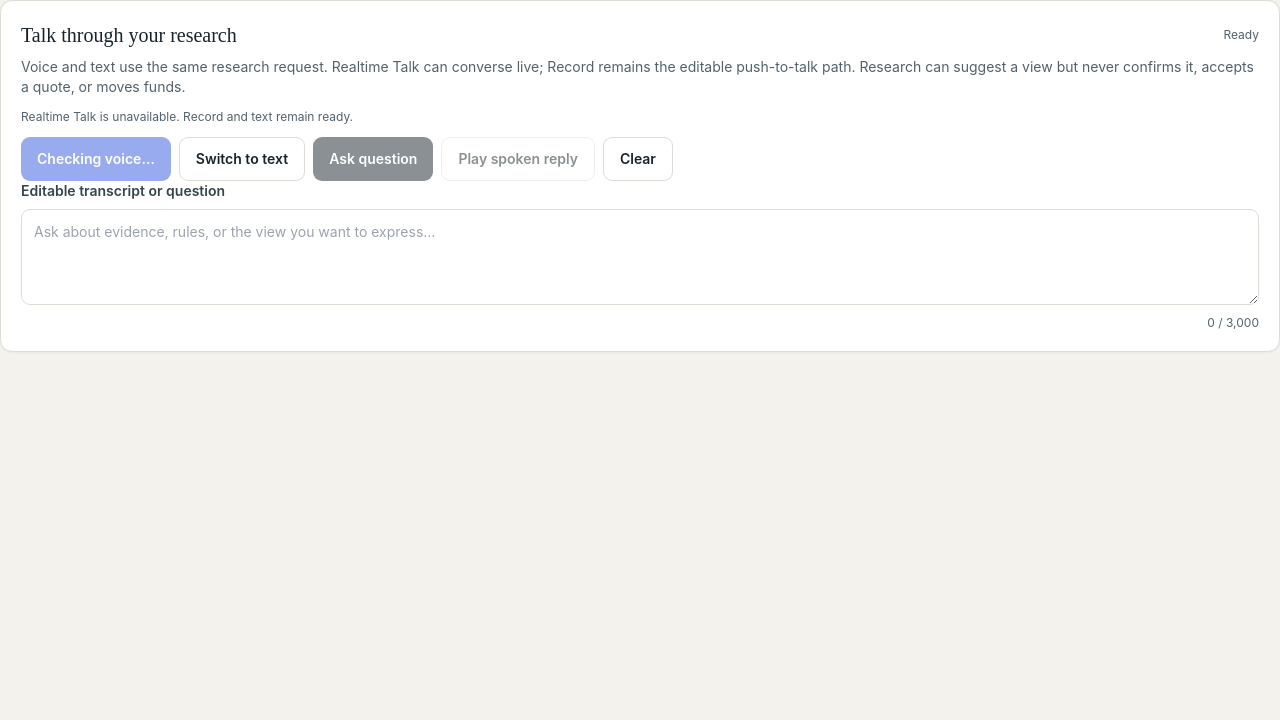
VoicePanel interaction flows › preserves typed research input after provider failure and retries the shared action
Click the button "Switch to text".
click(242, 159)  # box [179,137,305,181]
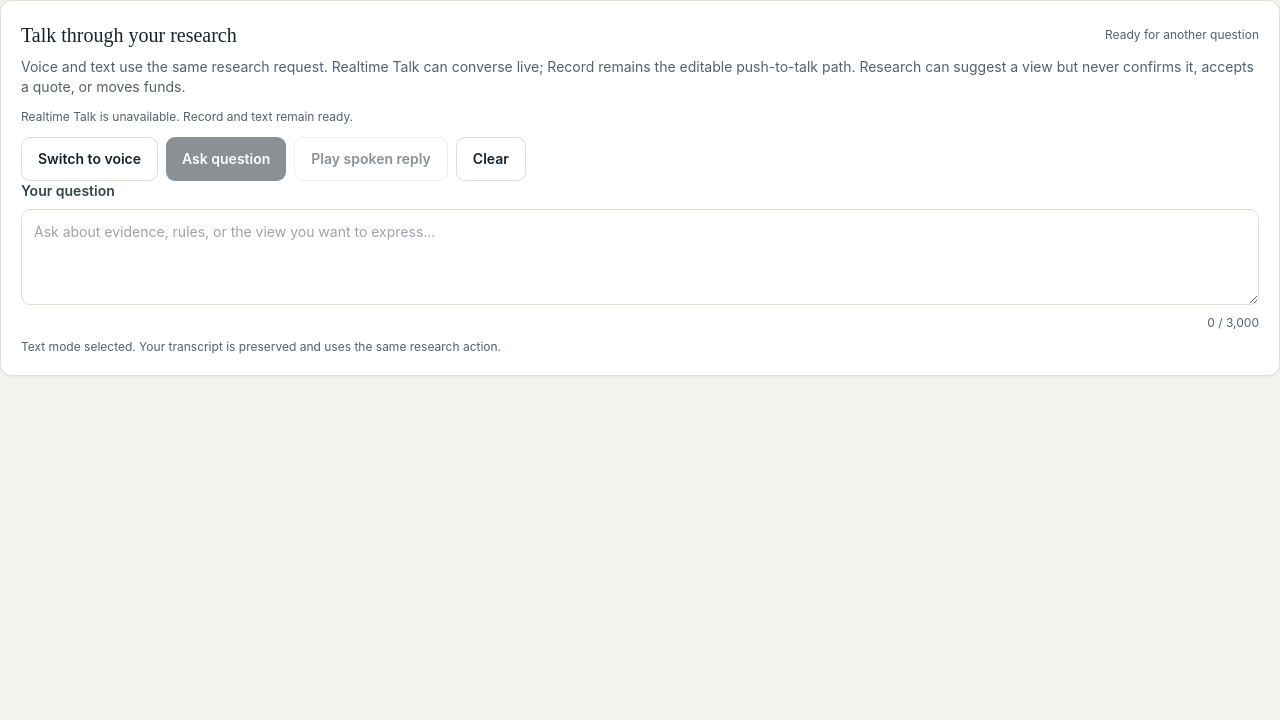
Type "What does Friday's exact rule say?" into the text box labelled "Your question".
click(640, 257); type("What does Friday's exact rule say?")  # box [21,209,1259,305]
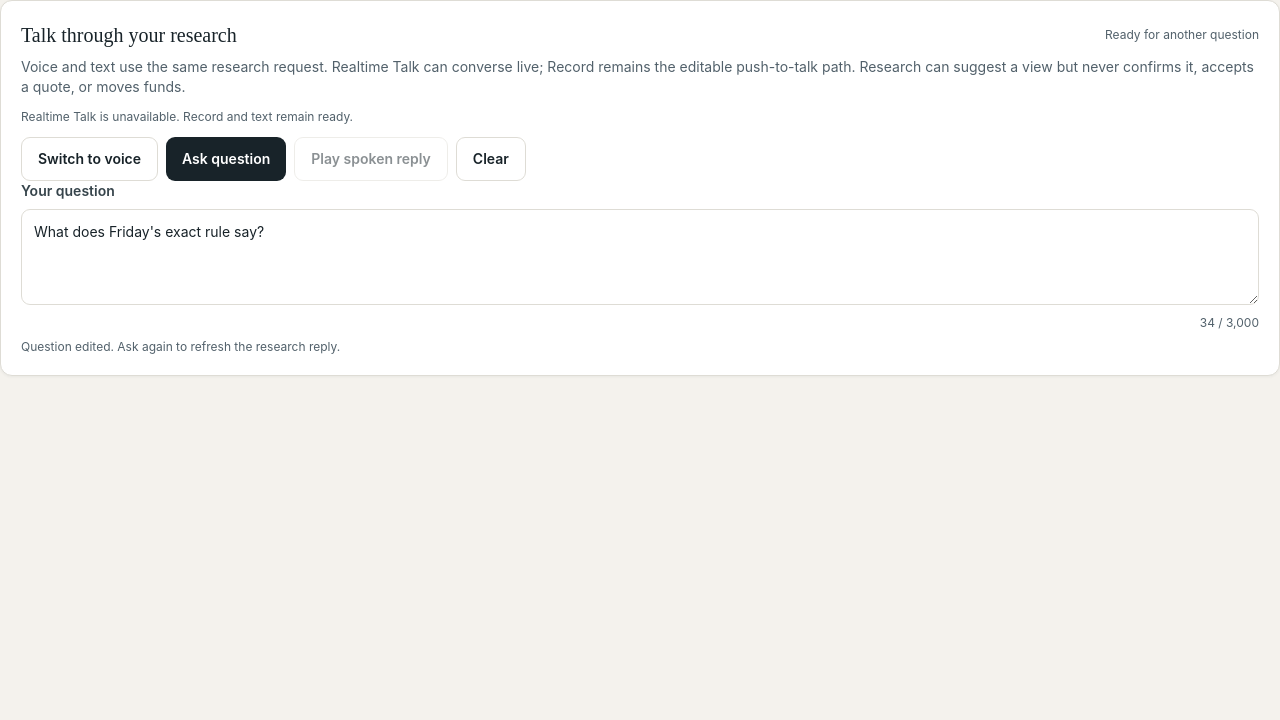
Click the button "Ask question".
click(226, 159)  # box [166,137,286,181]
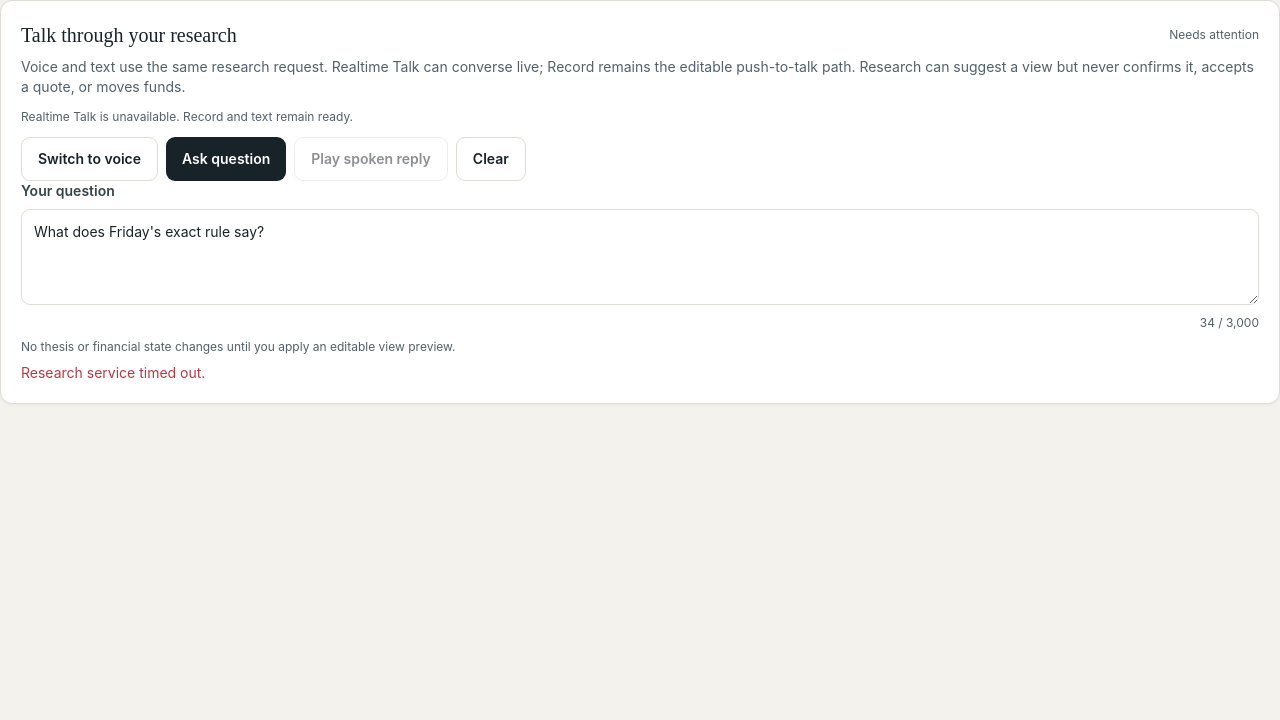
Expected: the message "Research service timed out." is shown, [21,364,205,381]
Click the button "Ask question".
click(226, 159)  # box [166,137,286,181]
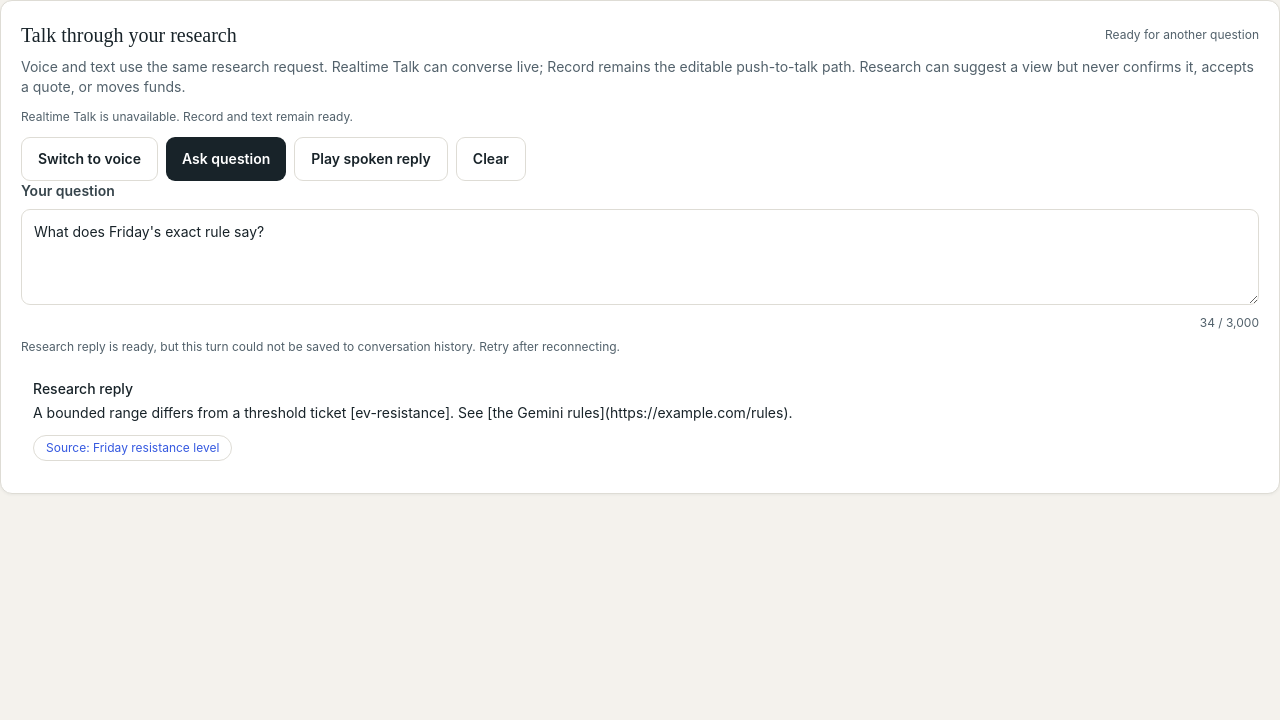
Expected: the text "A bounded range differs from a threshold ticket" is shown, [33,404,793,421]
